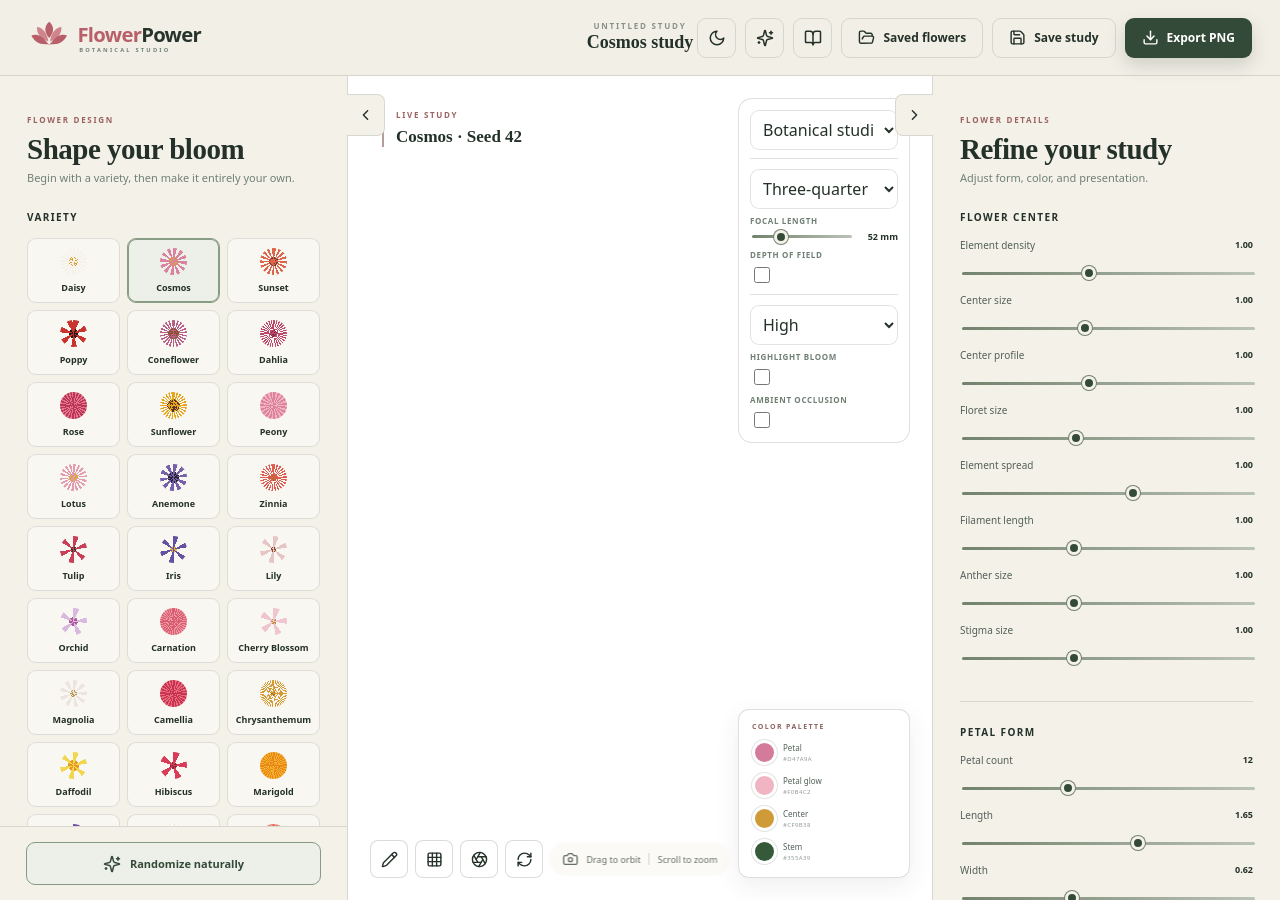
Scenario: FlowerStudio › enables restrained highlight bloom controls in photo mode
The image size is (1280, 900).
What coordinates should you click on to do the following:
click the checkbox named "Enable highlight bloom"
I would click on:
 (762, 377)
Its box is 754,369 -> 770,385.
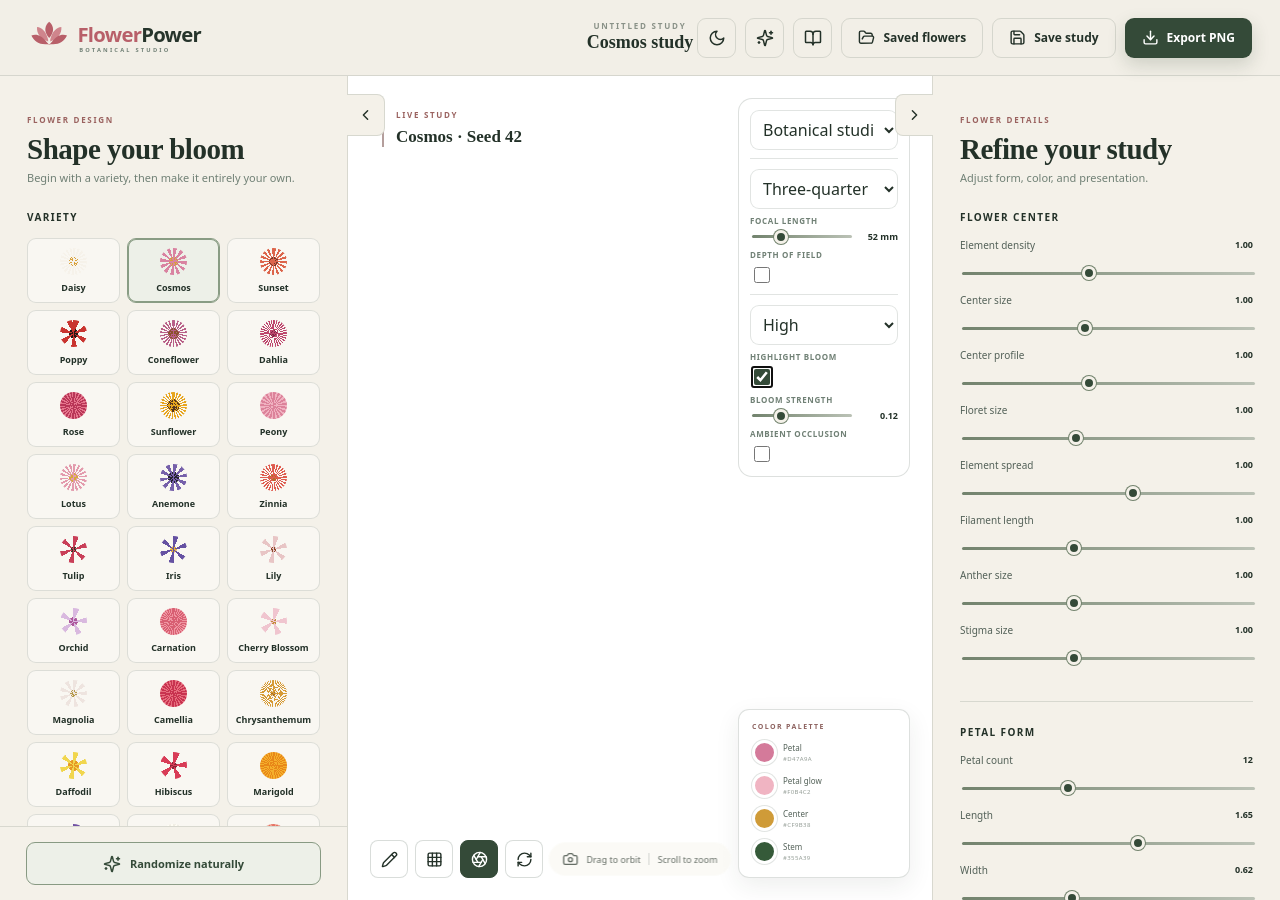
Expected: the slider named "Highlight bloom strength" holds "0.12", 752,414 -> 852,417
